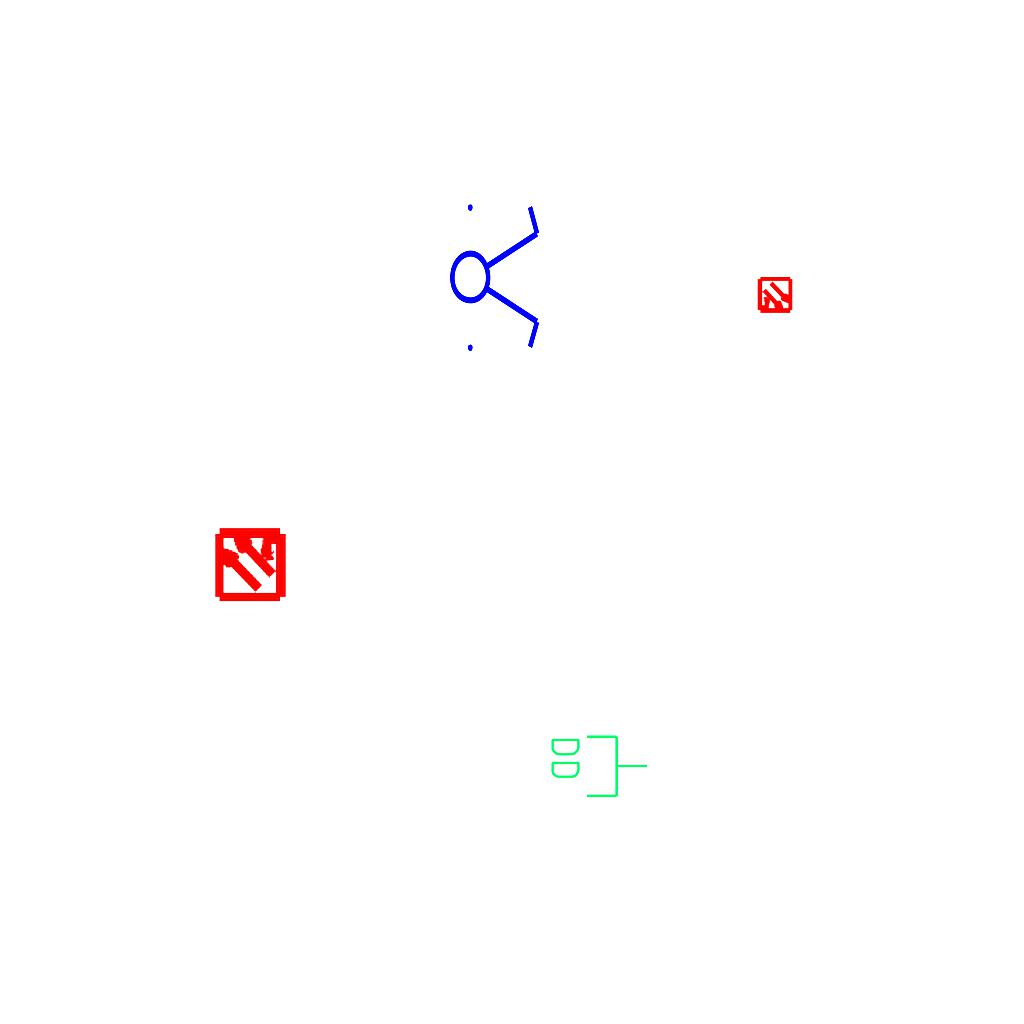Datenanschluss_zweifach: (547, 731, 650, 800)
OT_Multisensormelder_(Kombination_RMO_WMD): (194, 506, 307, 619), (747, 268, 803, 324)
Serienschalter: (448, 192, 544, 360)
